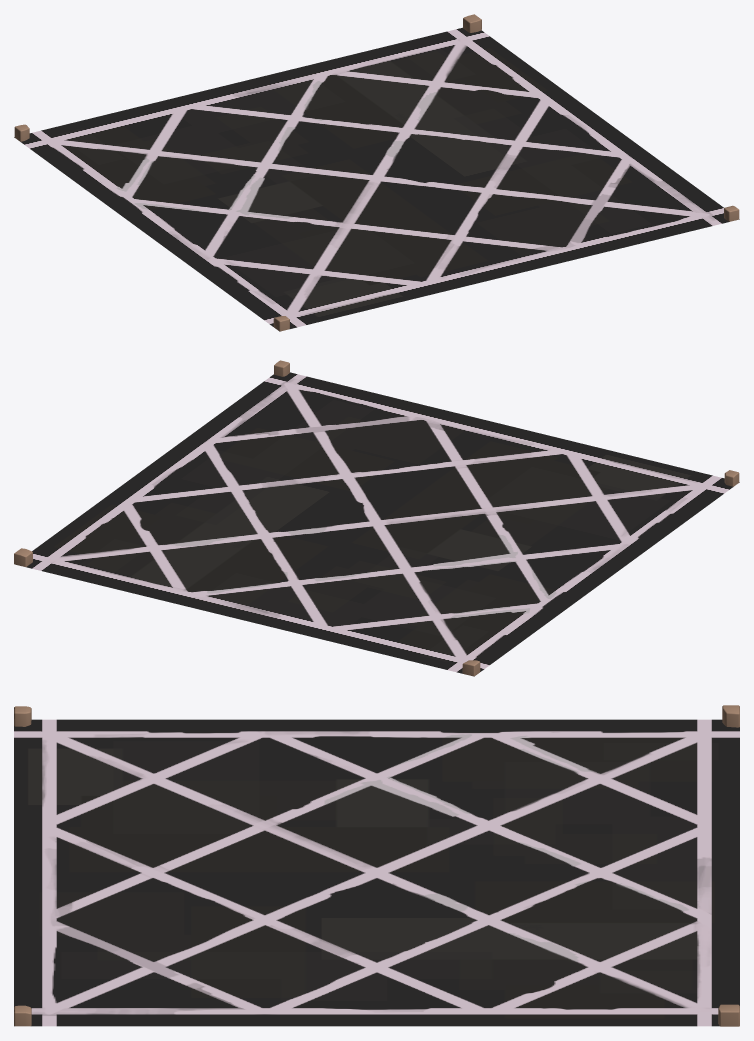
File: CityRoad_crossroadWide.fbx
The picture shows the model from 3 angles, top to bottom: view 1: azimuth 30°, elevation 25°; view 2: azimuth 150°, elevation 25°; view 3: azimuth 270°, elevation 25°; orthographic projection. The views are drawn at different scales.
Parts seen in each view (by area): view 1: CityRoad_crossroadWide_mesh; view 2: CityRoad_crossroadWide_mesh; view 3: CityRoad_crossroadWide_mesh.
Boxes of the visible parts, bbox=[...] form: CityRoad_crossroadWide_mesh: bbox=[14, 14, 739, 331]; CityRoad_crossroadWide_mesh: bbox=[14, 360, 739, 676]; CityRoad_crossroadWide_mesh: bbox=[14, 705, 739, 1026].
Bounding box in the file's own units: 1002 × 22.99 × 1000.
